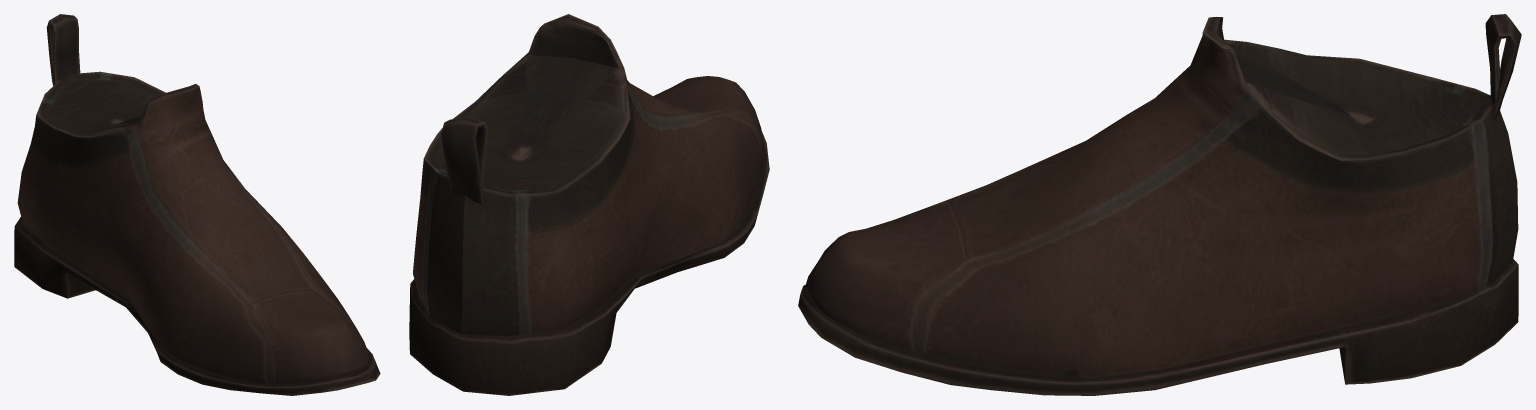
Rendered from pie_izq.obj.
3 renders of one model, left to right at view 1: azimuth 30°, elevation 25°; view 2: azimuth 150°, elevation 25°; view 3: azimuth 270°, elevation 25°, orthographic. The views are drawn at different scales.
Parts seen in each view (by area): view 1: node_id800.001; view 2: node_id800.001; view 3: node_id800.001.
Boxes of the visible parts, box(x1,y1,x2,y2) form: node_id800.001: box(14, 14, 380, 395); node_id800.001: box(409, 14, 769, 395); node_id800.001: box(798, 14, 1521, 395).
Size of the model in its own units: 0.1229 by 0.1433 by 0.3055.
1 material, 1 textured.
